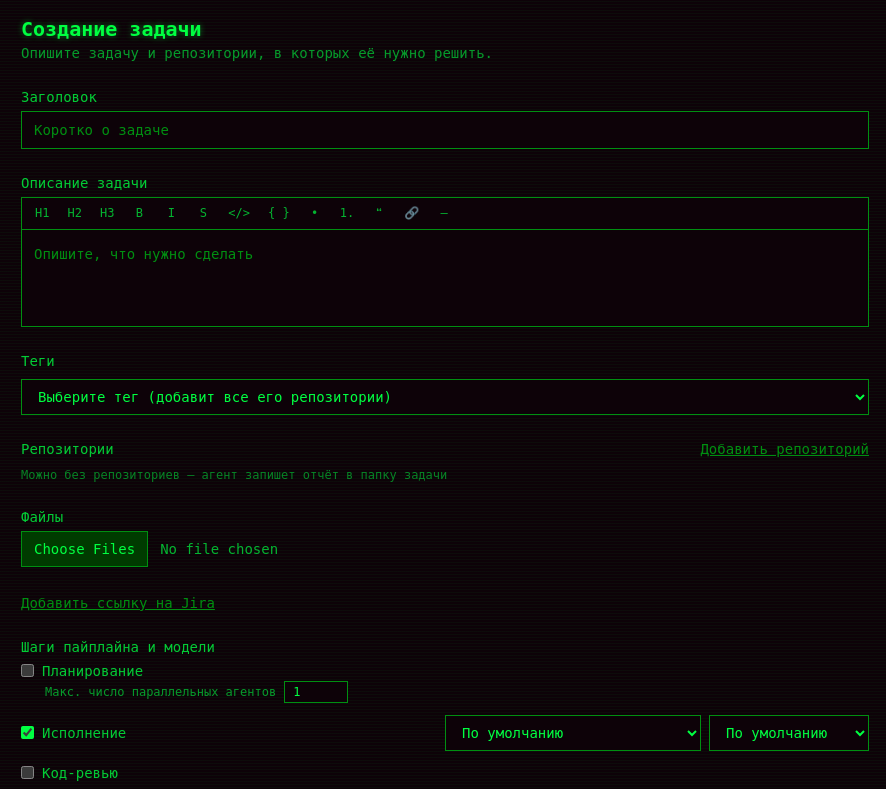
Test: NewIssue › ошибка загрузки веток не роняет форму: остаётся defaultBranch
Click the button "Добавить репозиторий" at x=785, y=449, box x1=700 y1=439 x2=869 y2=459
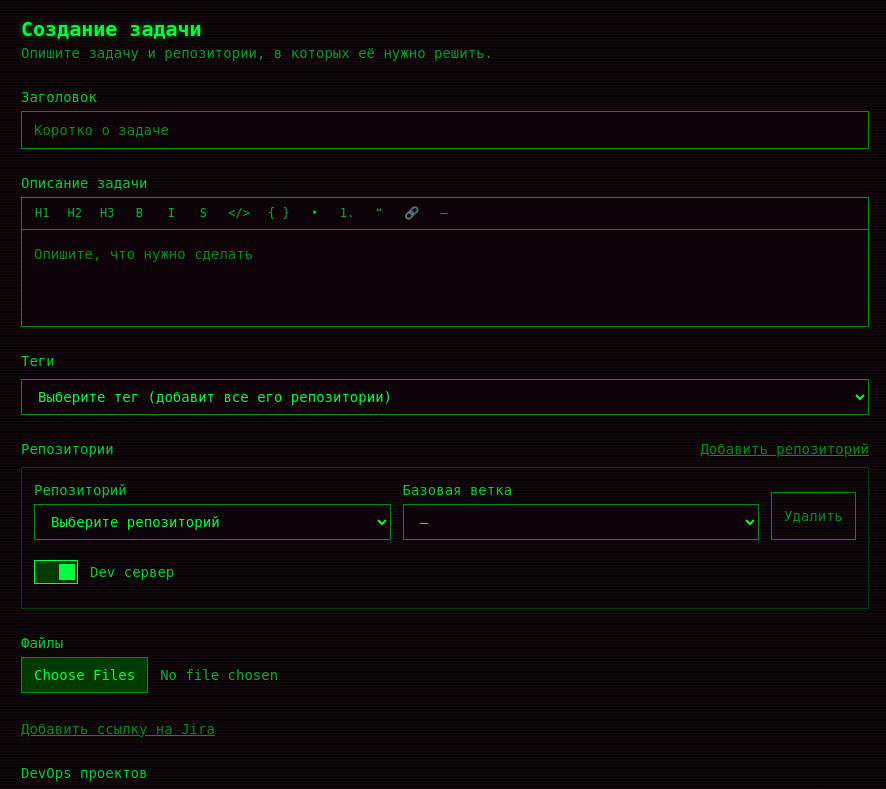
Expected: the dropdown labelled "Репозиторий" is enabled
Select "acme/app" in the dropdown labelled "Репозиторий" at x=212, y=522, box x1=34 y1=504 x2=390 y2=540
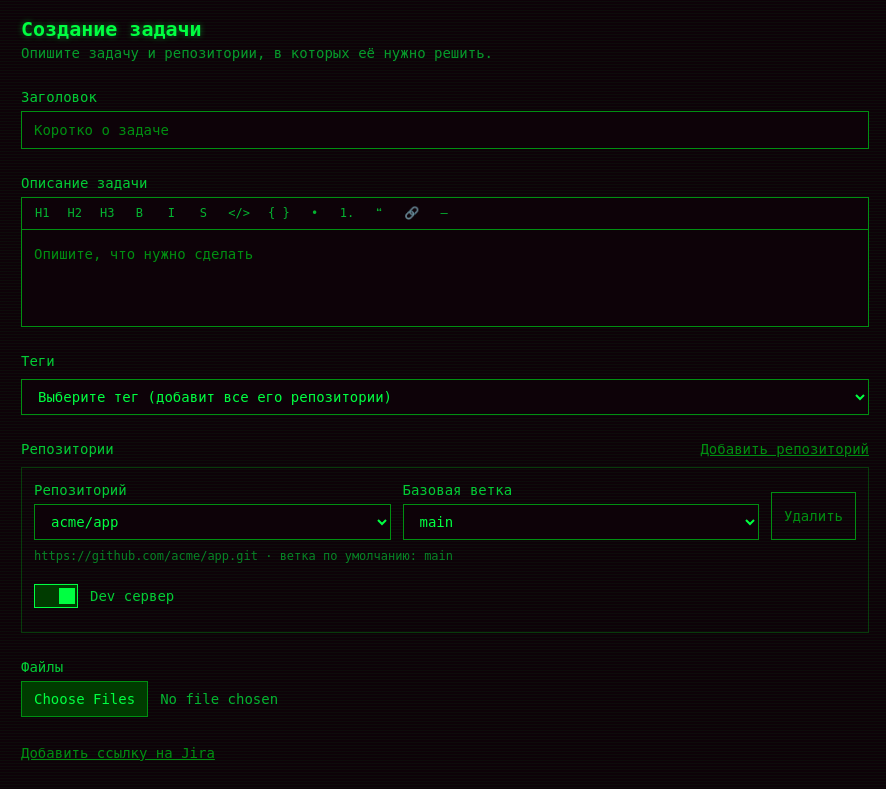
Expected: the dropdown labelled "Базовая ветка" is enabled, x1=402 y1=504 x2=759 y2=540
Expected: the dropdown labelled "Базовая ветка" shows "main", x1=402 y1=504 x2=759 y2=540
